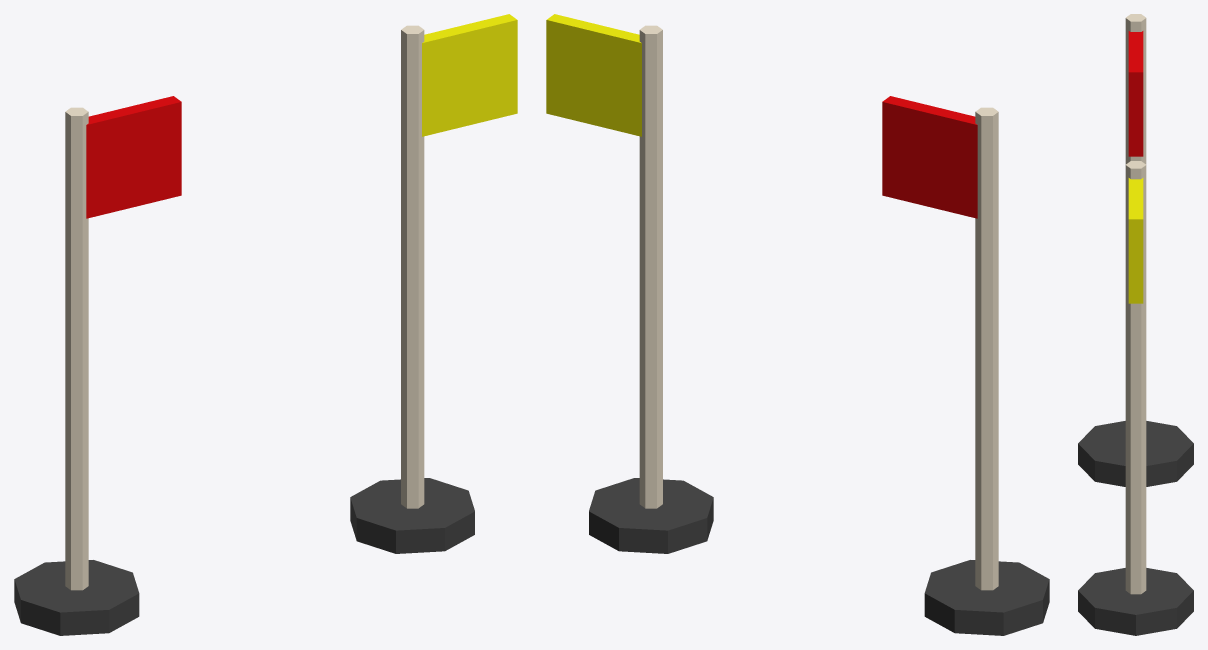
3 views of the same model, side by side, from view 1: azimuth 30°, elevation 25°; view 2: azimuth 150°, elevation 25°; view 3: azimuth 270°, elevation 25° (orthographic). The views are drawn at different scales.
Parts seen in each view (by area): view 1: Signal pole, Signal pole.001, Signal flag, Signal flag.001, Signal base, Signal base.001; view 2: Signal pole, Signal pole.001, Signal flag, Signal flag.001, Signal base, Signal base.001; view 3: Signal pole.001, Signal base.001, Signal base, Signal flag, Signal flag.001, Signal pole.
Part boxes in pixels (left/top/right/bottom): Signal pole: left=65, top=107, right=88, bottom=590; Signal pole.001: left=401, top=25, right=424, bottom=508; Signal flag: left=86, top=96, right=181, bottom=218; Signal flag.001: left=422, top=14, right=517, bottom=136; Signal base: left=14, top=560, right=139, bottom=635; Signal base.001: left=350, top=478, right=474, bottom=553; Signal pole: left=975, top=107, right=998, bottom=590; Signal pole.001: left=639, top=25, right=662, bottom=508; Signal flag: left=882, top=96, right=977, bottom=218; Signal flag.001: left=546, top=14, right=641, bottom=136; Signal base: left=924, top=560, right=1049, bottom=635; Signal base.001: left=589, top=478, right=713, bottom=553; Signal pole.001: left=1125, top=161, right=1146, bottom=594; Signal base.001: left=1078, top=568, right=1193, bottom=635; Signal base: left=1078, top=421, right=1193, bottom=486; Signal flag: left=1128, top=31, right=1143, bottom=156; Signal flag.001: left=1128, top=178, right=1143, bottom=303; Signal pole: left=1125, top=14, right=1146, bottom=164.
Bounding box in the file's own units: 0.88 × 0.85 × 0.2.
Materials: 1 (1 with a texture image).
